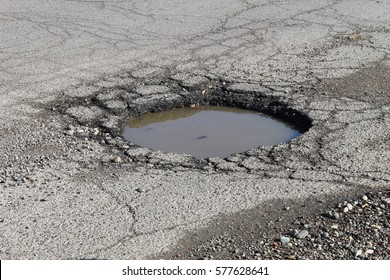Hole_in_the_road: (67, 65, 328, 199)
